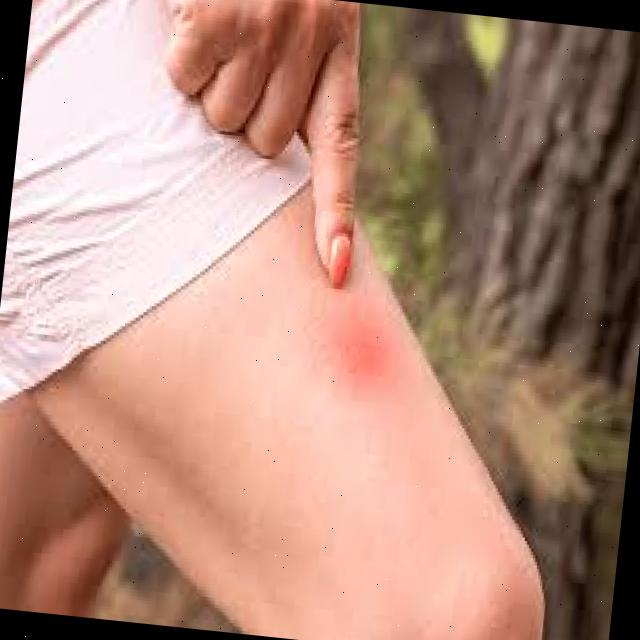kene: (325, 301, 402, 397)
